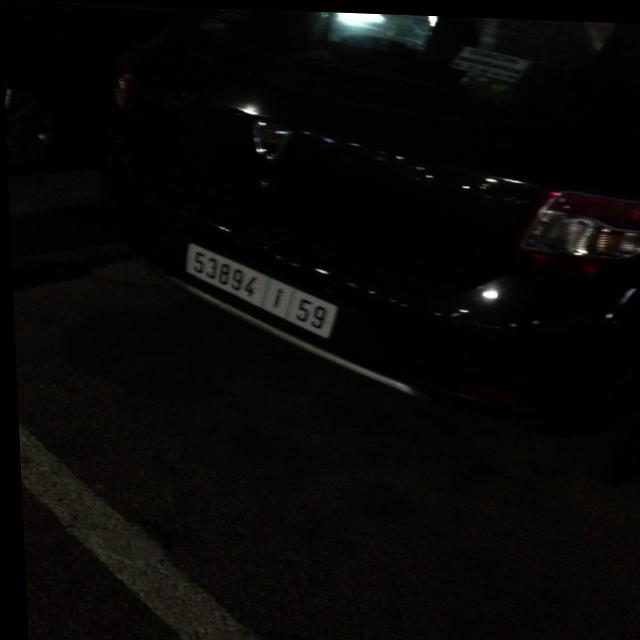License-Plate: (182, 242, 335, 335)
